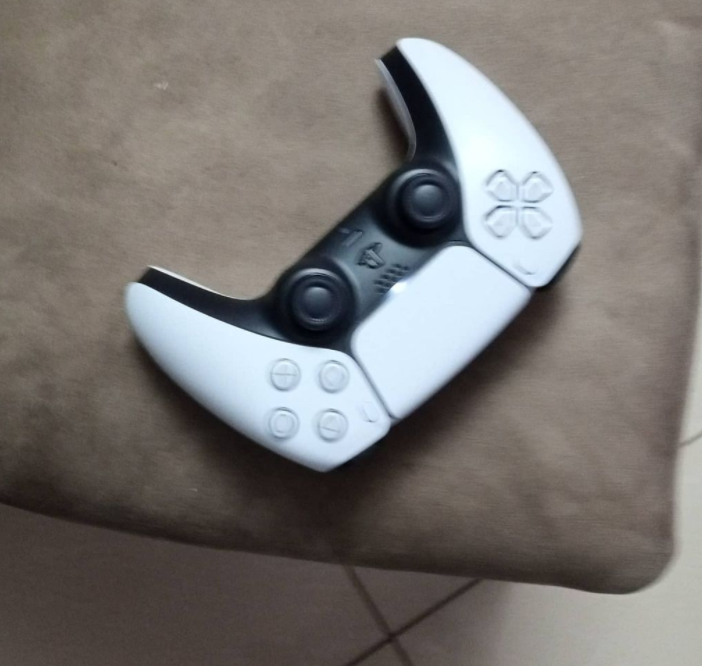gamingconsole: (123, 39, 582, 469)
